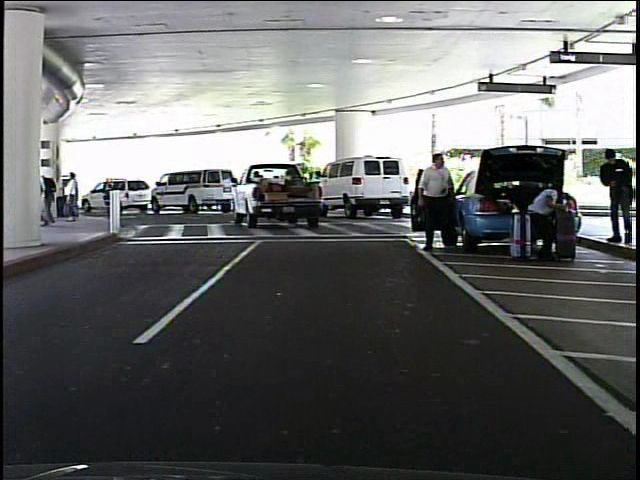person: (416, 150, 461, 251), (596, 143, 632, 248), (523, 174, 567, 258)
